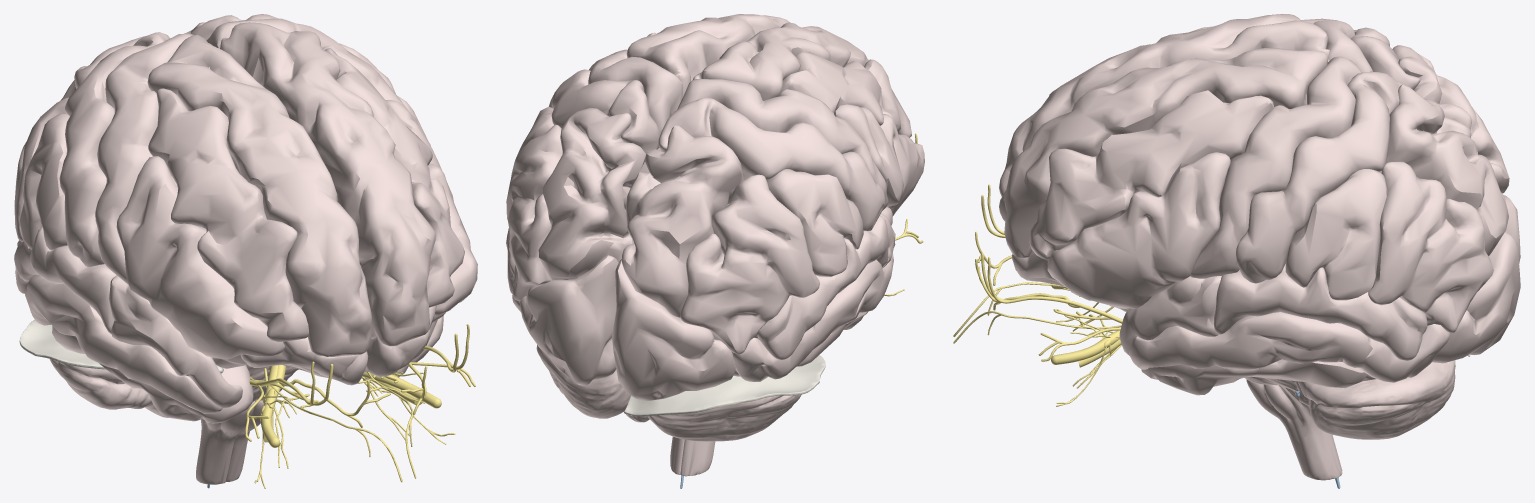
The model's file is nervioso.glb.
3 renders of one model, left to right at view 1: azimuth 30°, elevation 25°; view 2: azimuth 150°, elevation 25°; view 3: azimuth 270°, elevation 25°, orthographic. The views are drawn at different scales.
Visible parts, largest first — view 1: lobulo-frontal-d__FJ1834, lobulo-frontal-i__FJ1833, lobulo-frontal-d__FJ1788, lobulo-frontal-d__FJ1745, lobulo-frontal-d__FJ1801, lobulo-parietal-d__FJ1798, lobulo-temporal-d__FJ1790, lobulo-frontal-i__FJ1787, lobulo-temporal-d__FJ1838, lobulo-parietal-d__FJ1842, lobulo-temporal-d__FJ1840, giros-orbitarios__FJ1794 (+17 smaller); view 2: lobulo-parietal-d__FJ1733, lobulo-parietal-d__FJ1836, lobulo-parietal-i__FJ1835, lobulo-occipital-d, lobulo-parietal-d__FJ1798, lobulo-occipital-i, lobulo-frontal-d__FJ1834, lobulo-parietal-i__FJ1732, lobulo-parietal-d__FJ1842, lobulo-frontal-d__FJ1801, lobulo-frontal-i__FJ1833, lobulo-frontal-d__FJ1788 (+11 smaller); view 3: lobulo-frontal-i__FJ1833, lobulo-frontal-i__FJ1787, lobulo-frontal-i__FJ1744, lobulo-parietal-i__FJ1732, lobulo-temporal-i__FJ1789, lobulo-parietal-i__FJ1797, lobulo-frontal-i__FJ1800, lobulo-frontal-d__FJ1834, lobulo-parietal-i__FJ1841, lobulo-parietal-i__FJ1835, lobulo-temporal-i__FJ1839, cerebelo__FJ1781 (+10 smaller).
Boxes of the visible parts, box(x1,y1,x2,y2) form: lobulo-frontal-d__FJ1834: box(147, 35, 372, 356); lobulo-frontal-i__FJ1833: box(220, 22, 435, 346); lobulo-frontal-d__FJ1788: box(148, 88, 308, 341); lobulo-frontal-d__FJ1745: box(116, 156, 285, 359); lobulo-frontal-d__FJ1801: box(95, 33, 193, 284); lobulo-parietal-d__FJ1798: box(59, 32, 170, 266); lobulo-temporal-d__FJ1790: box(25, 275, 222, 413); lobulo-frontal-i__FJ1787: box(324, 48, 464, 307); lobulo-temporal-d__FJ1838: box(109, 275, 242, 407); lobulo-parietal-d__FJ1842: box(19, 113, 69, 250); lobulo-temporal-d__FJ1840: box(14, 227, 116, 333); giros-orbitarios__FJ1794: box(211, 337, 368, 385); lobulo-parietal-d__FJ1733: box(680, 174, 819, 354); lobulo-parietal-d__FJ1836: box(622, 125, 743, 317); lobulo-parietal-i__FJ1835: box(538, 108, 645, 280); lobulo-occipital-d: box(612, 259, 735, 401); lobulo-parietal-d__FJ1798: box(658, 97, 885, 230); lobulo-occipital-i: box(520, 255, 618, 385); lobulo-frontal-d__FJ1834: box(693, 22, 868, 100); lobulo-parietal-i__FJ1732: box(506, 124, 562, 300); lobulo-parietal-d__FJ1842: box(767, 169, 863, 276); lobulo-frontal-d__FJ1801: box(677, 79, 888, 210); lobulo-frontal-i__FJ1833: box(626, 14, 789, 97); lobulo-frontal-d__FJ1788: box(779, 51, 911, 137); lobulo-frontal-i__FJ1833: box(999, 48, 1329, 258); lobulo-frontal-i__FJ1787: box(1029, 90, 1273, 259); lobulo-frontal-i__FJ1744: box(1047, 152, 1230, 308); lobulo-parietal-i__FJ1732: box(1368, 161, 1493, 332); lobulo-temporal-i__FJ1789: box(1128, 312, 1450, 382); lobulo-parietal-i__FJ1797: box(1236, 71, 1401, 283); lobulo-frontal-i__FJ1800: box(1190, 56, 1361, 278); lobulo-frontal-d__FJ1834: box(999, 14, 1329, 196); lobulo-parietal-i__FJ1841: box(1285, 169, 1387, 300); lobulo-parietal-i__FJ1835: box(1379, 84, 1508, 255); lobulo-temporal-i__FJ1839: box(1213, 264, 1427, 360); cerebelo__FJ1781: box(1296, 360, 1455, 439).
Size of the model in its own units: 0.1408 by 0.1719 by 0.1958.
